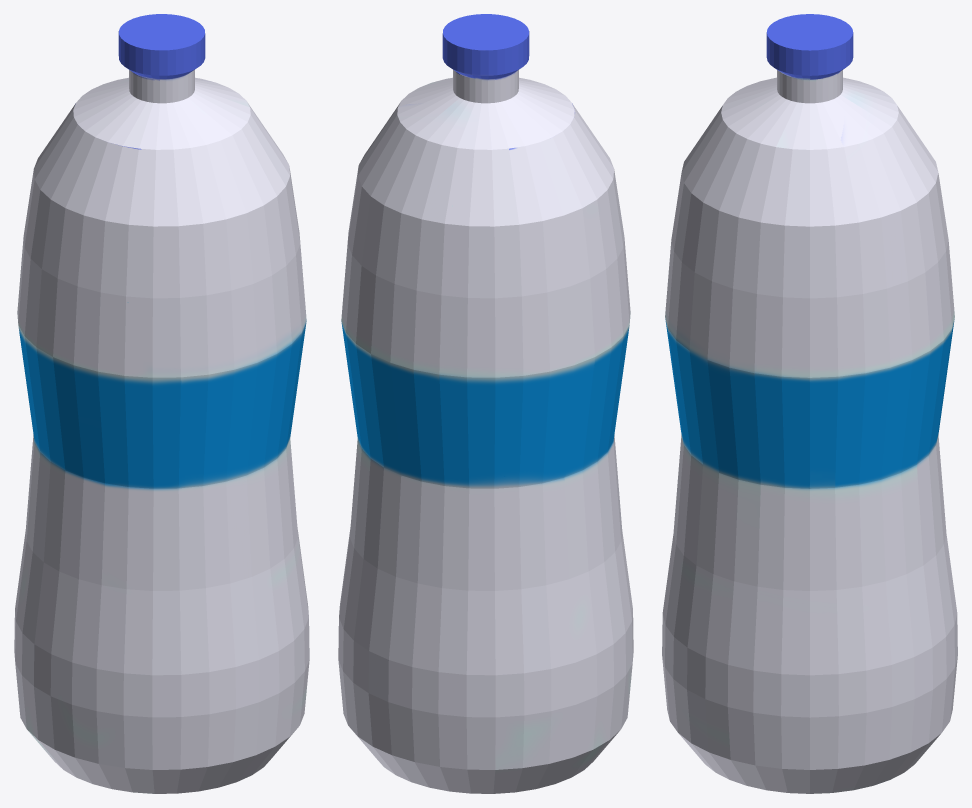
Rendered from bouteille2.fbx.
3 views of the same model, side by side, from view 1: azimuth 30°, elevation 25°; view 2: azimuth 150°, elevation 25°; view 3: azimuth 270°, elevation 25° (orthographic).
Parts seen in each view (by area): view 1: Cylinder; view 2: Cylinder; view 3: Cylinder.
Part boxes in pixels (left/top/right/bottom): Cylinder: left=14, top=14, right=309, bottom=793; Cylinder: left=338, top=14, right=633, bottom=793; Cylinder: left=662, top=14, right=957, bottom=793.
Bounding box in the file's own units: 159 × 422 × 159.
